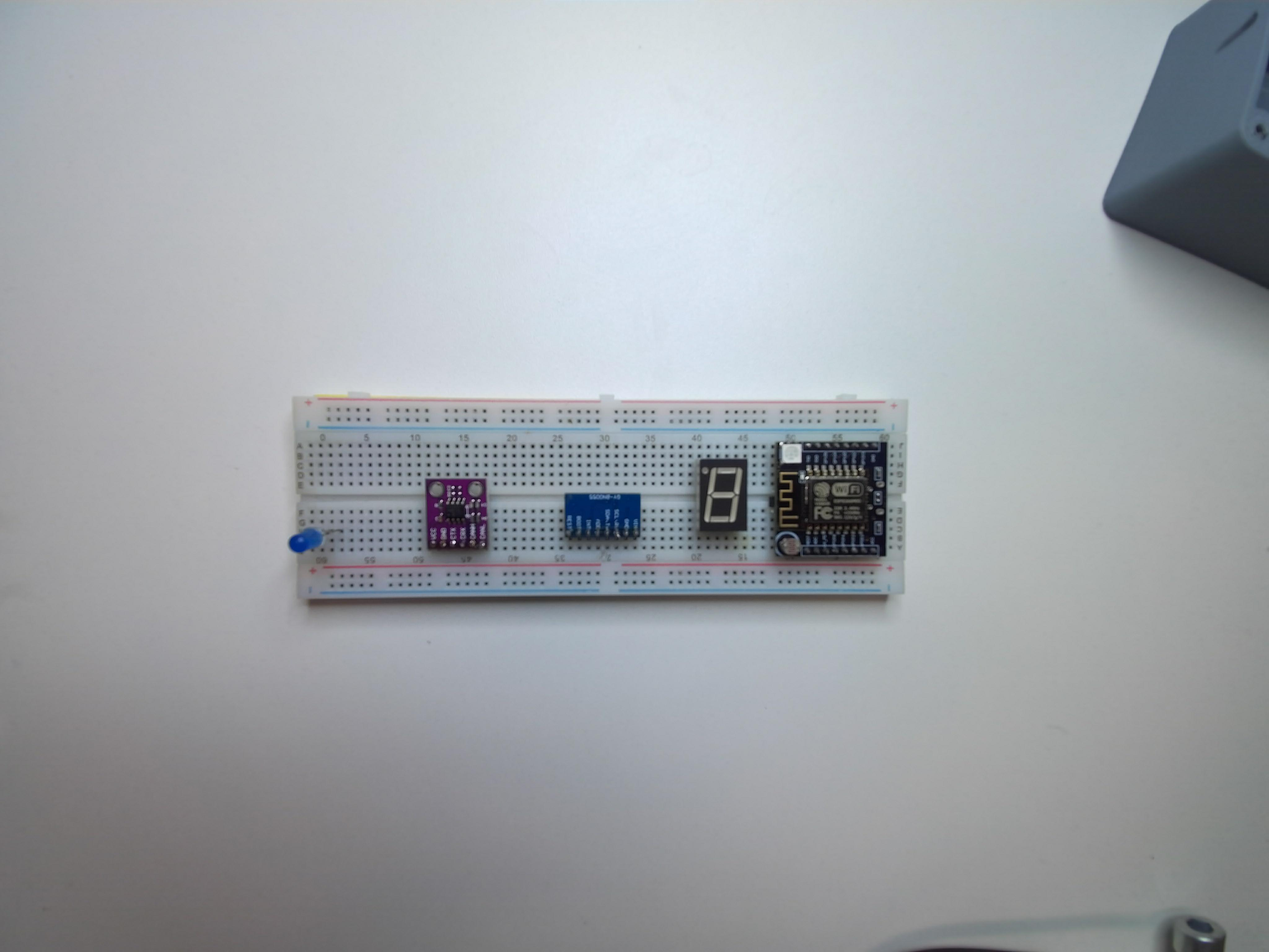base: (286, 391, 909, 608)
blue-board: (564, 491, 642, 542)
blue-led: (289, 526, 323, 553)
digit-board: (696, 458, 748, 537)
esp: (770, 438, 889, 563)
purple-board: (424, 475, 489, 552)
